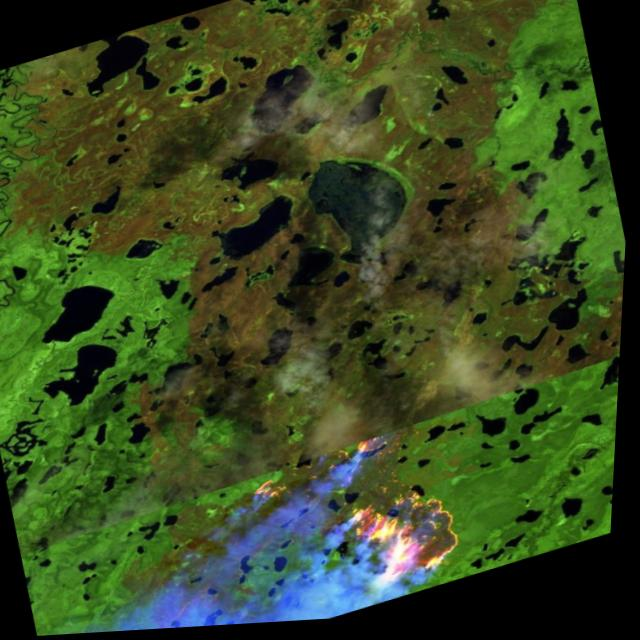fire: (225, 407, 493, 628)
